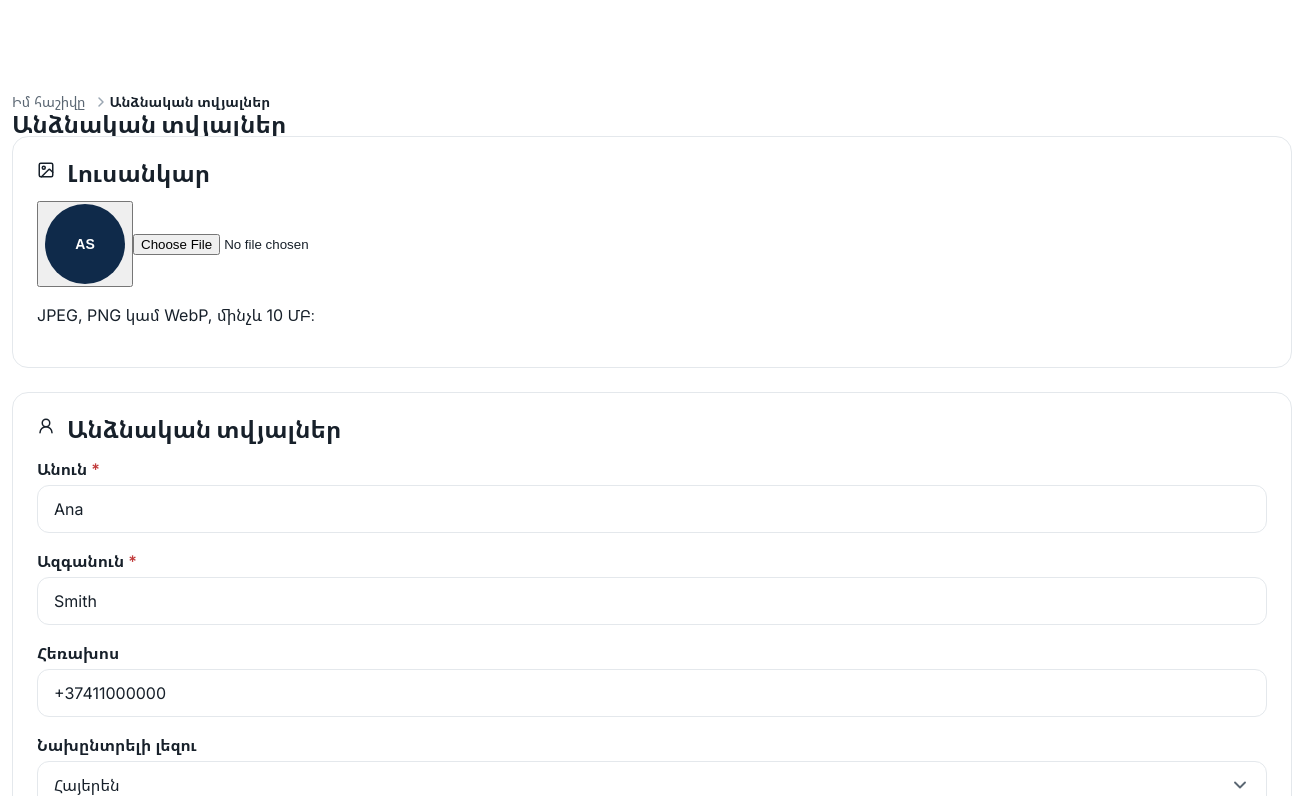
Test: ProfilePageContent (apps/web/src/modules/profile) › saving the profile form shows a success toast
Type "x" into the field labelled "Անուն *" at x=652, y=509, box 54,486 -> 1250,532
(page scrolled)
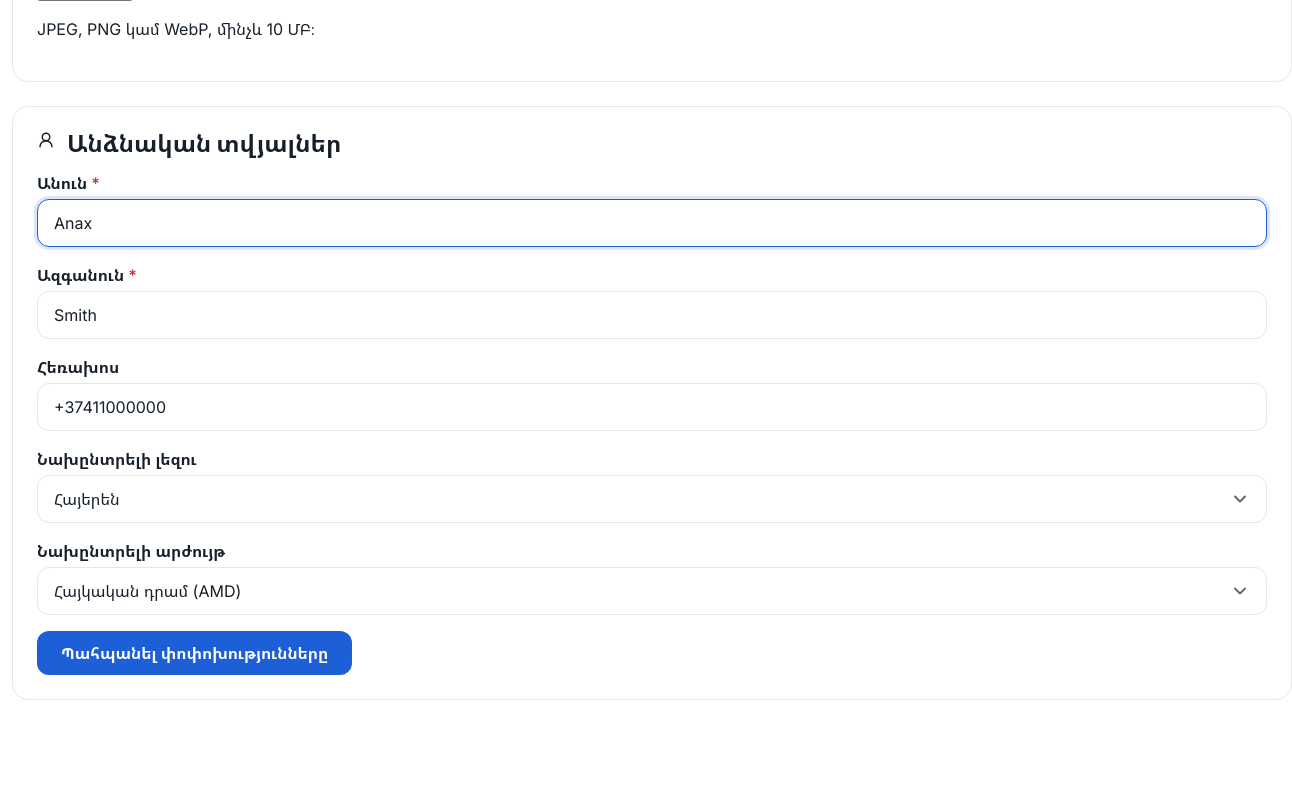
Click the button "Պահպանել փոփոխությունները" at x=195, y=653, box 37,631 -> 352,675
(page scrolled)
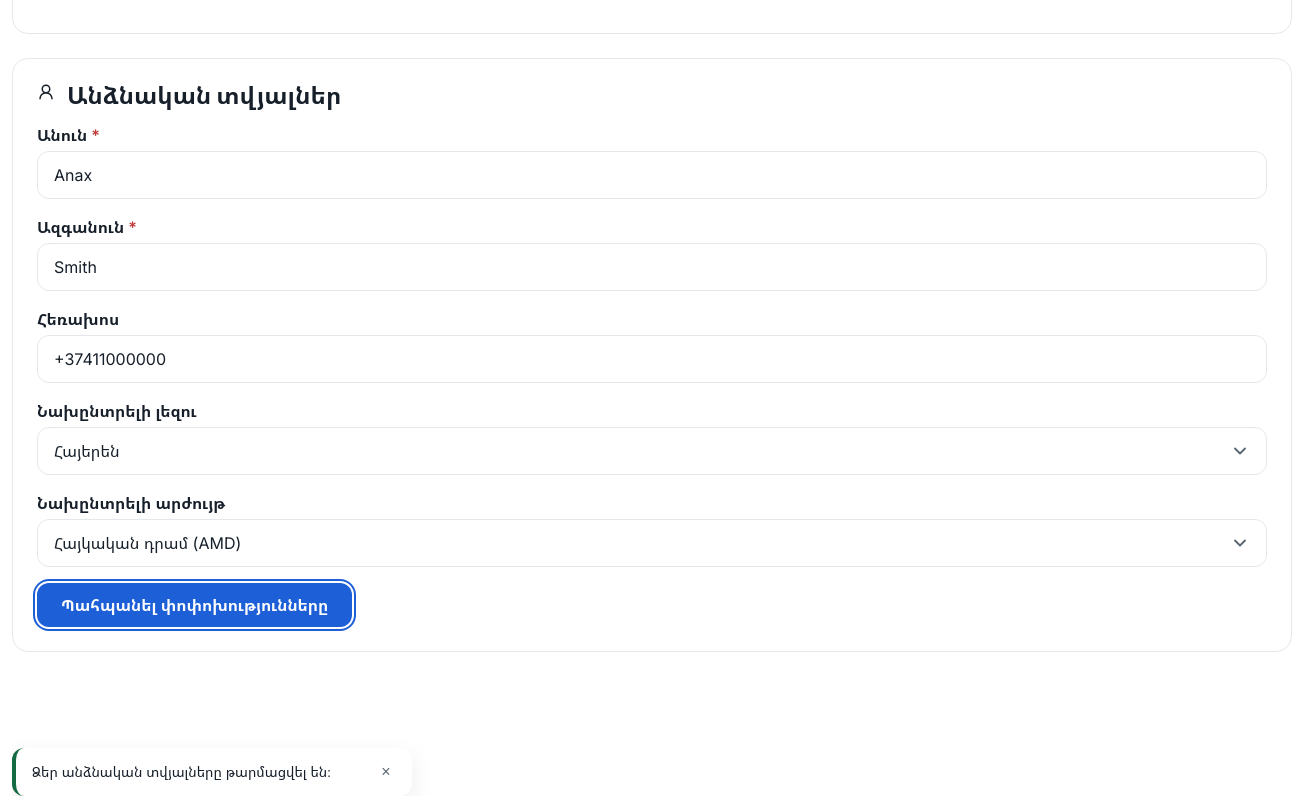
expect the text "Ձեր անձնական տվյալները թարմացվել են։" is shown: met, box 32,760 -> 364,784
